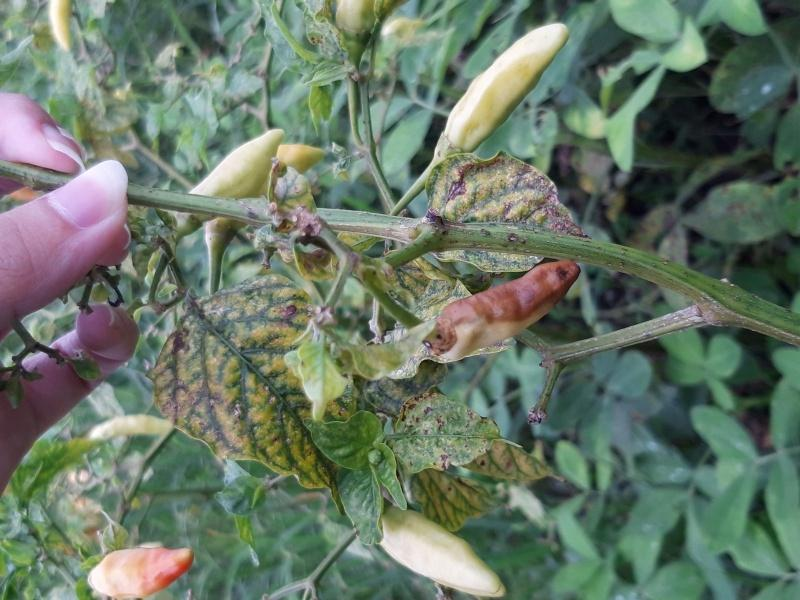cabai_normal: (445, 22, 568, 151), (377, 505, 509, 595), (188, 131, 282, 222), (214, 141, 326, 216), (91, 546, 194, 597)
lalat_buah: (434, 260, 579, 363)
